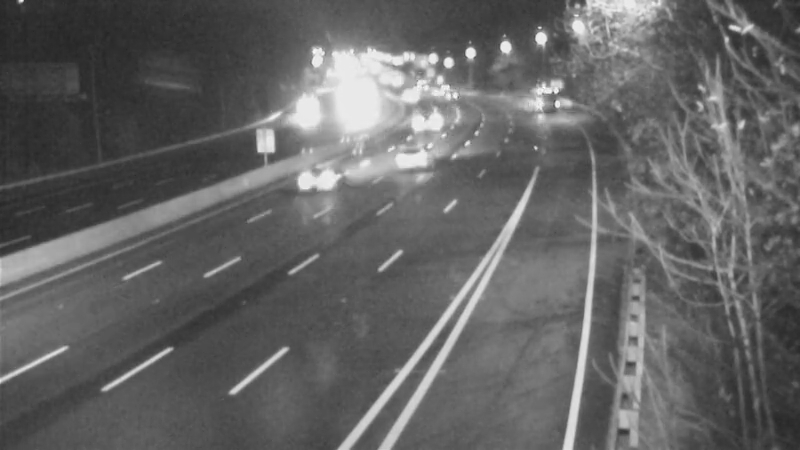vehicle: (373, 121, 453, 201), (280, 141, 360, 221), (428, 71, 478, 121), (516, 75, 566, 125), (406, 97, 456, 147), (275, 82, 325, 132)
